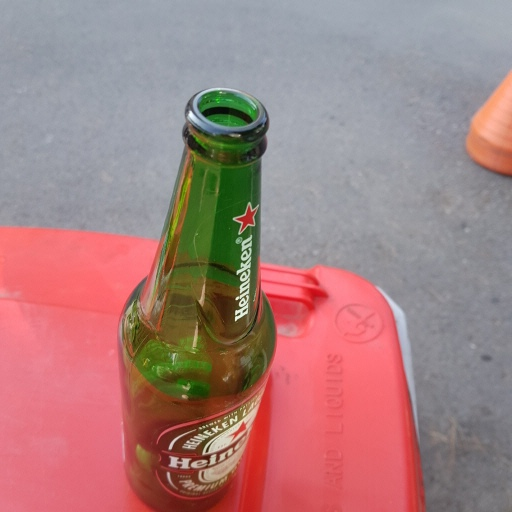Glass_1: (113, 88, 284, 512)
